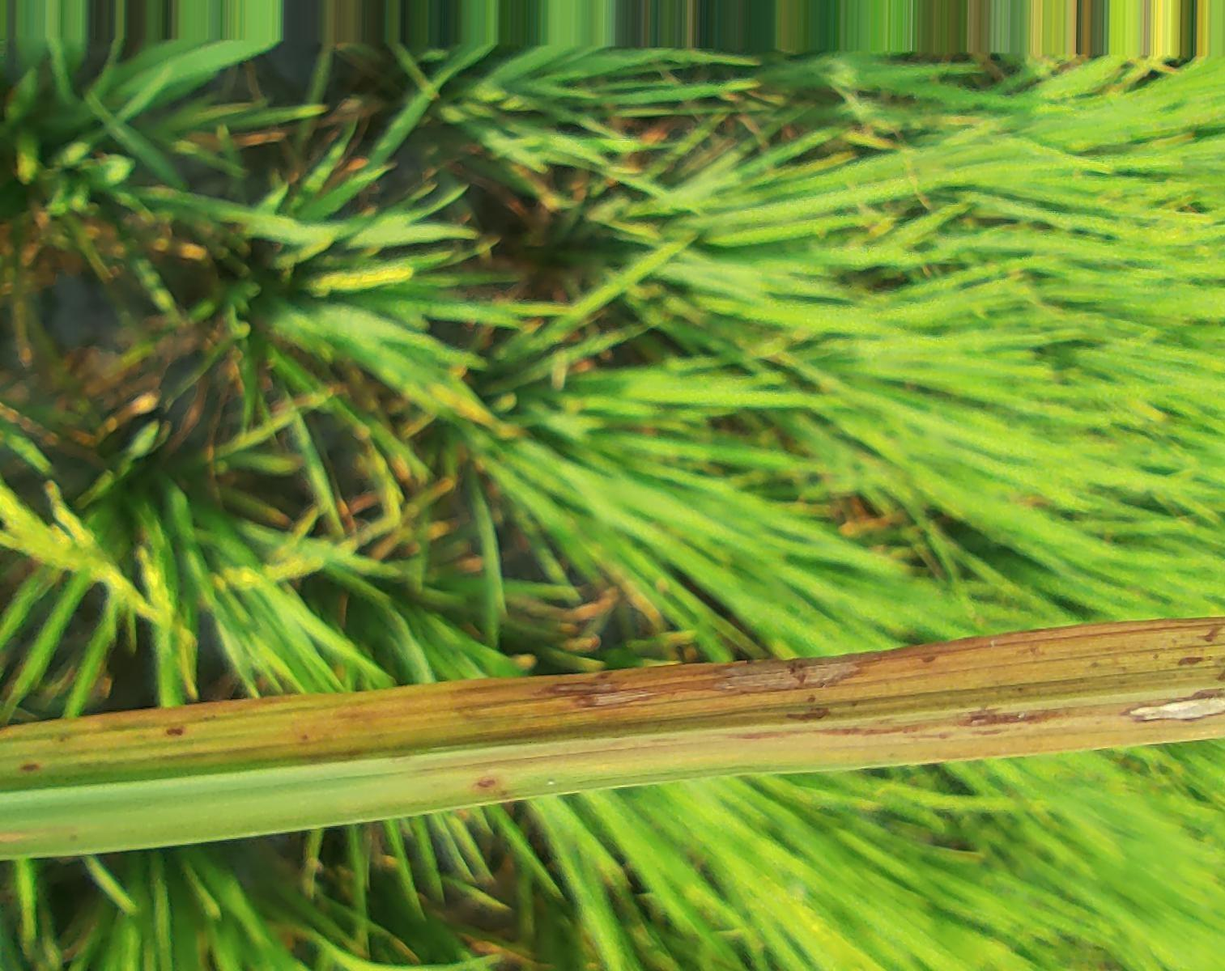LEAF: (0, 617, 1224, 859)
LEAF BLAST: (713, 652, 882, 694), (539, 679, 658, 709), (1120, 689, 1224, 723), (955, 708, 1060, 725)
